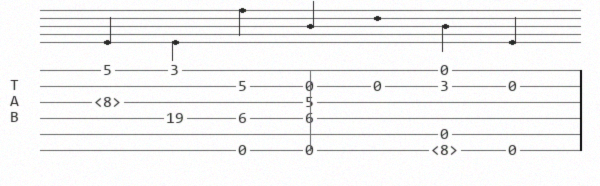0: (238, 143, 251, 157), (305, 79, 318, 93), (305, 143, 318, 157), (373, 79, 386, 93), (440, 63, 453, 77), (440, 127, 453, 141), (508, 143, 521, 157), (508, 79, 521, 93)
19: (166, 111, 188, 125)
3: (170, 63, 183, 77), (440, 79, 453, 93)
5: (103, 63, 116, 77), (238, 79, 251, 93), (305, 95, 318, 109)
6: (238, 111, 251, 125), (305, 111, 318, 125)
harmonic: (94, 95, 125, 109), (431, 143, 462, 157)
